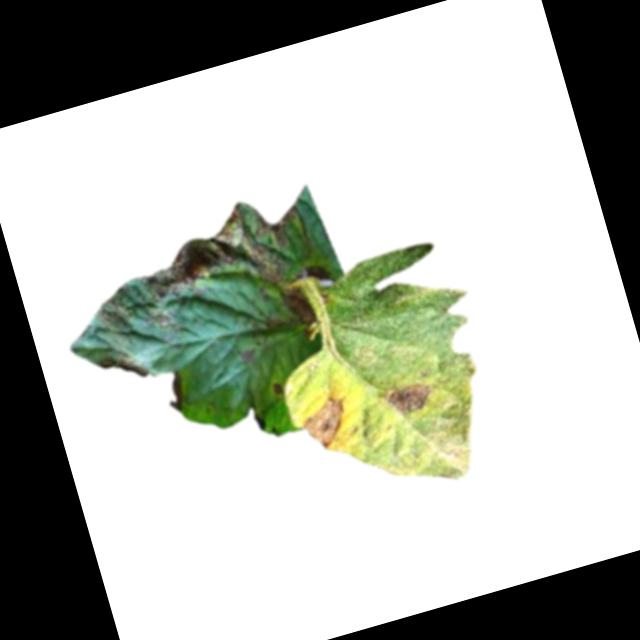Early_blight: (131, 185, 319, 319), (299, 391, 359, 454), (381, 378, 436, 420), (97, 347, 151, 387), (157, 369, 193, 417), (277, 285, 313, 327), (272, 378, 288, 393)
